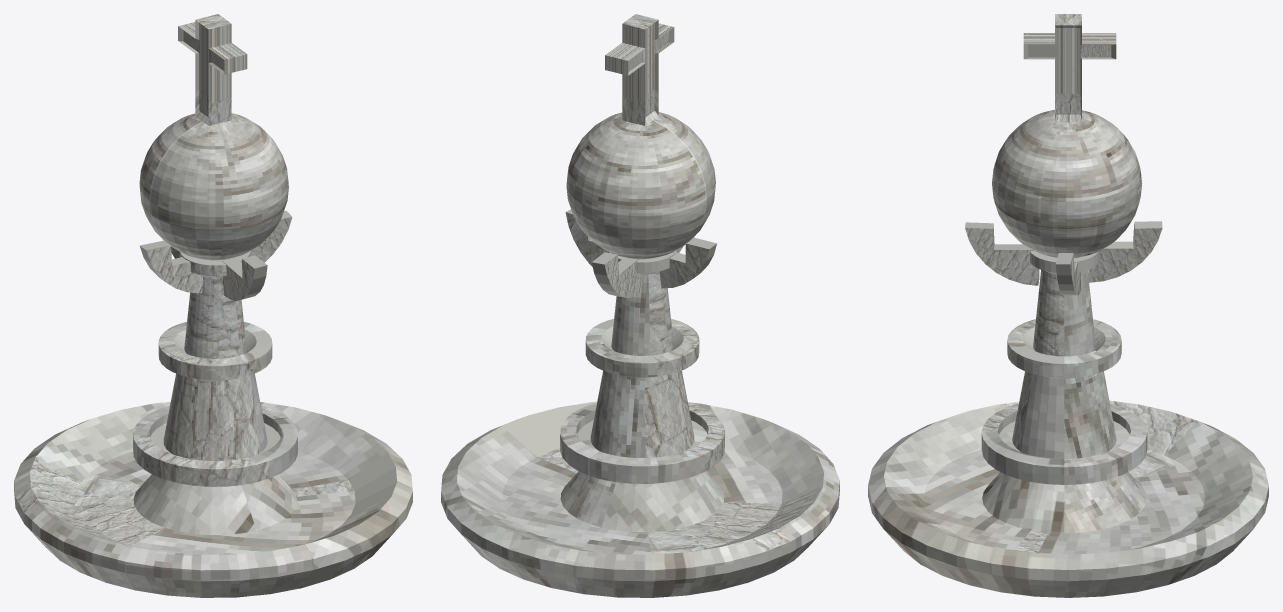
The model's file is Fountain.fbx.
3 renders of one model, left to right at view 1: azimuth 30°, elevation 25°; view 2: azimuth 150°, elevation 25°; view 3: azimuth 270°, elevation 25°, orthographic.
Visible parts, largest first — view 1: Circle; view 2: Circle; view 3: Circle.
Boxes of the visible parts, x1=… form: Circle: x1=14, y1=14, x2=412, y2=597; Circle: x1=441, y1=14, x2=839, y2=597; Circle: x1=868, y1=14, x2=1268, y2=597.
Bounding box in the file's own units: 533 × 739 × 533.
Materials: 2 (2 with a texture image).
